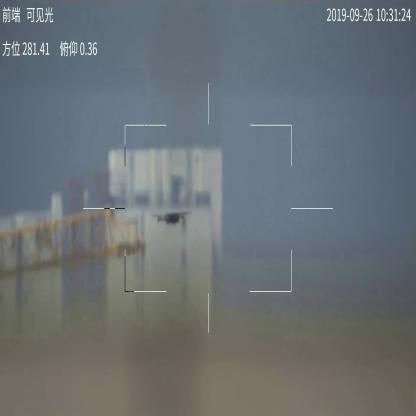uav: (152, 210, 190, 226)
